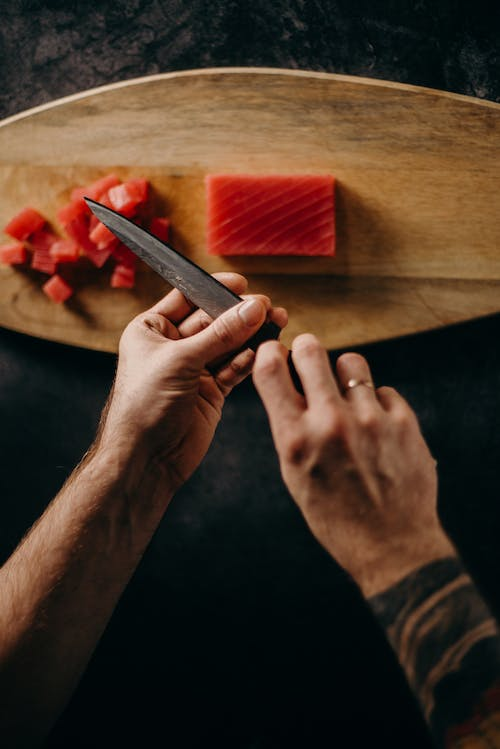knife: (81, 192, 282, 352)
